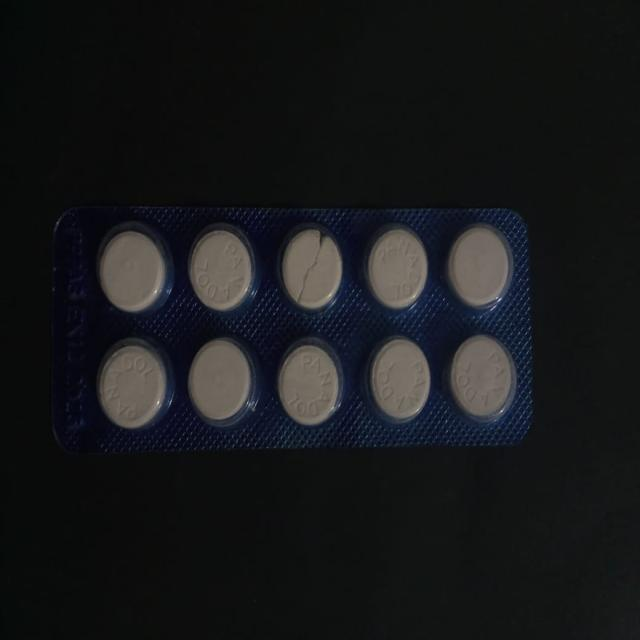defect: (276, 220, 346, 314)
